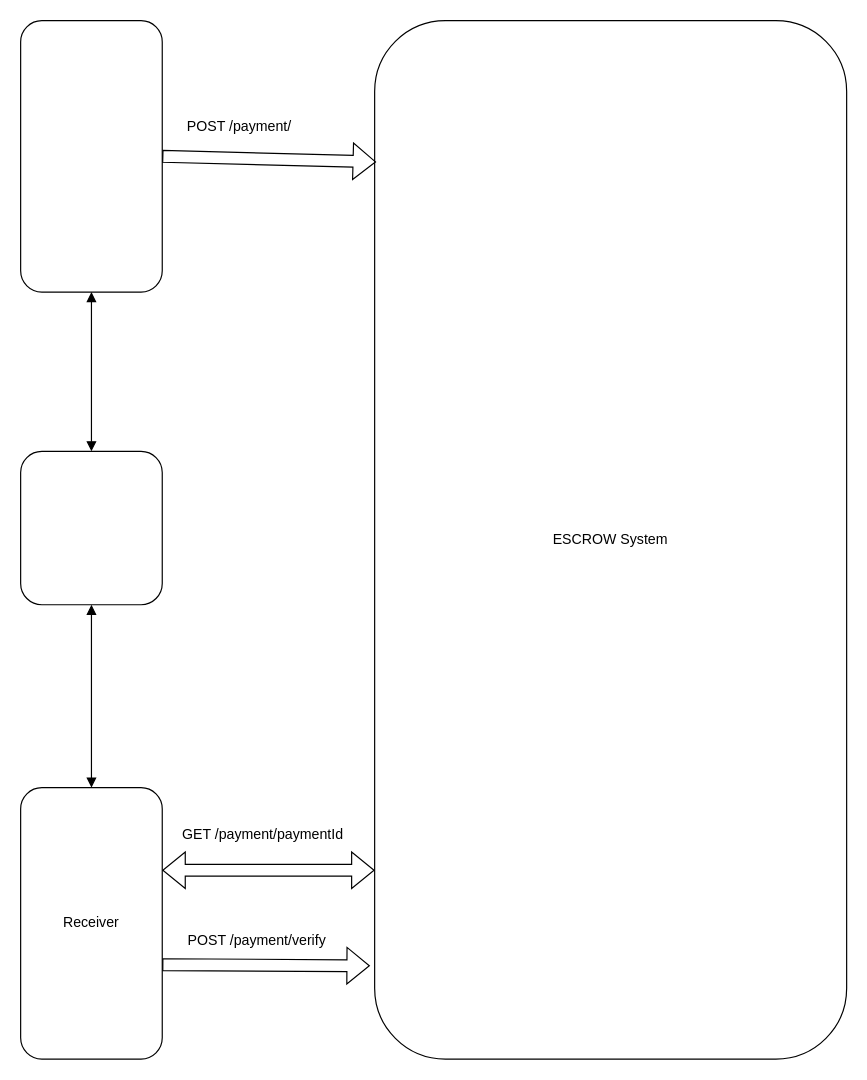
Image size: 867x1080. Some labels were removed from this diagram. Here are the shapes that lost their labels. From the top down, the box of each, then its label:
(19, 19, 162, 292): Sender
(19, 450, 162, 605): Notification System
